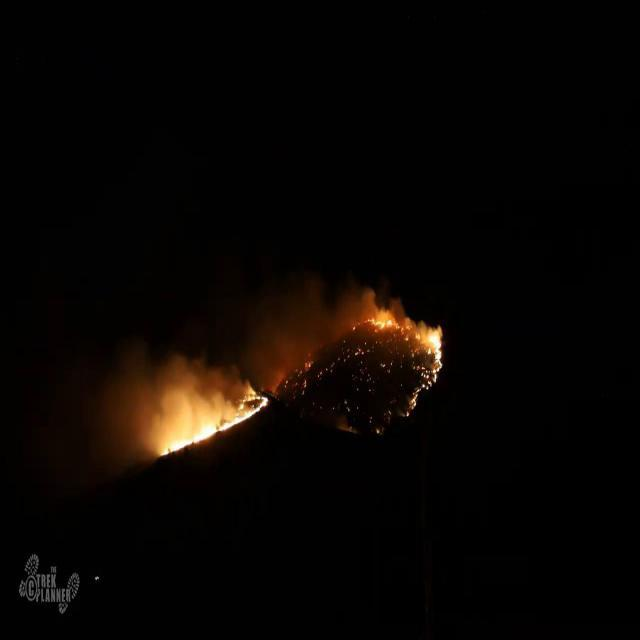Fire: (158, 387, 270, 457), (413, 326, 443, 412), (368, 314, 396, 331)
